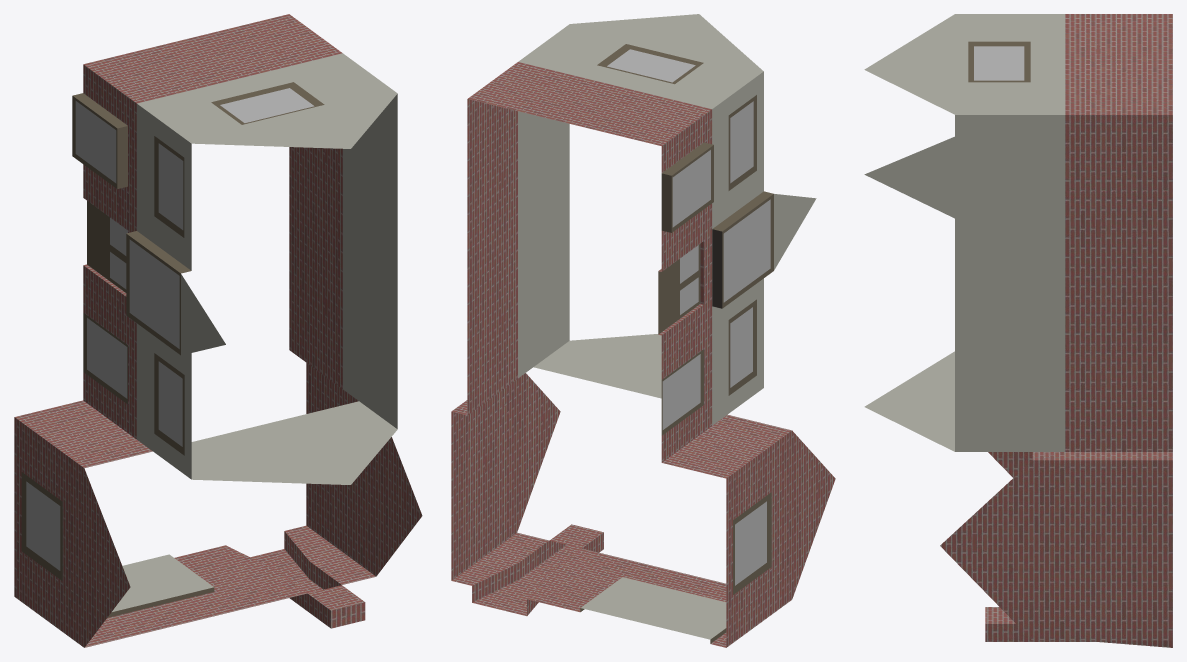
The model's file is house.obj.
3 renders of one model, left to right at view 1: azimuth 30°, elevation 25°; view 2: azimuth 150°, elevation 25°; view 3: azimuth 270°, elevation 25°, orthographic. The views are drawn at different scales.
Visible parts, largest first — view 1: Material__36, Material__26, Material__28, Material__27; view 2: Material__36, Material__26, Material__28, Material__27, Material__29; view 3: Material__36, Material__26, Material__28, Material__27.
Part boxes in pixels (x1,y1,x2,y2): Material__36: (14,14,422,647); Material__26: (112,53,397,611); Material__28: (26,88,314,570); Material__27: (21,82,324,617); Material__36: (451,62,835,647); Material__26: (518,14,816,639); Material__28: (607,49,770,585); Material__27: (580,44,773,643); Material__29: (712,229,722,308); Material__36: (940,14,1172,647); Material__26: (864,14,1064,451); Material__28: (974,46,1024,80); Material__27: (968,41,1030,82).
Bounding box in the file's own units: 84.27 × 147 × 76.91.
